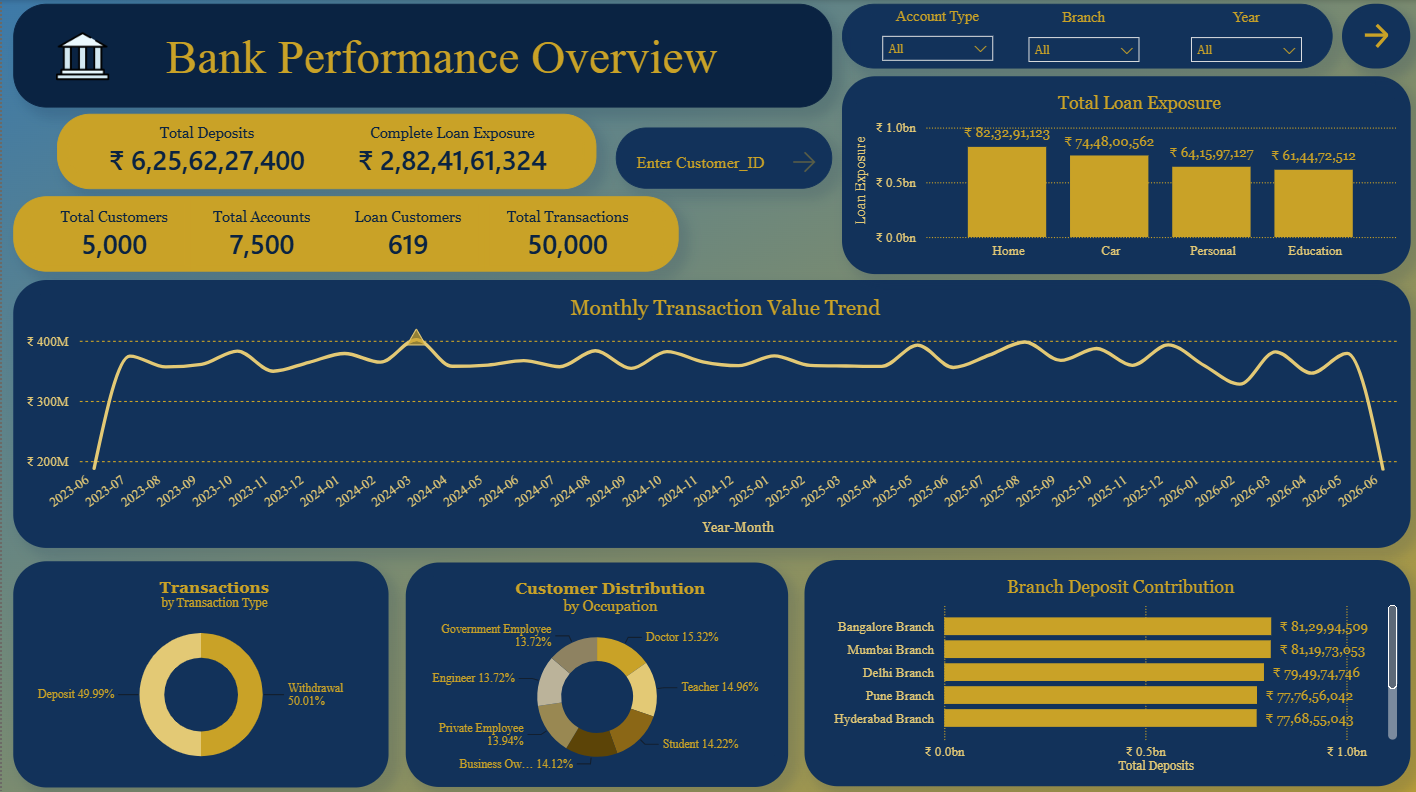

Layout of this report page (visuals, bound fields, positions):
{"tool":"powerbi","page":{"name":"Banking Performance","canvas":[1280,720],"ordinal":0},"visuals":[{"type":"shape","box":[553.8,115,195,55],"z":0},{"type":"shape","box":[757.5,3.8,442.5,58.8],"z":1000},{"type":"shape","box":[10,3.8,738.8,93.8],"z":2000},{"type":"shape","box":[50,102.2,486.2,68],"z":3000},{"type":"shape","box":[10,177.2,600,68],"z":4000},{"type":"slicer","title":"Year","fields":{"Values":["Dim_Date.Year"]},"box":[1061.2,7.5,120,50],"z":5000},{"type":"slicer","title":"Branch","fields":{"Values":["Dim_Branch.Branch_Name"]},"box":[915,7.5,120,50],"z":6000},{"type":"slicer","title":"Account Type","fields":{"Values":["Fact_Account.Account_Type"]},"box":[783.8,7,120,50],"z":7000},{"type":"cardVisual","fields":{"Data":["Measure.Total Customers"]},"box":[32.5,179.3,137.5,65],"z":8000},{"type":"cardVisual","fields":{"Data":["Measure.Total Accounts"]},"box":[170,179.3,128,65],"z":9000},{"type":"cardVisual","fields":{"Data":["Measure.Total Deposits"]},"box":[73.8,103.5,223.8,65],"z":10000},{"type":"cardVisual","fields":{"Data":["Measure.Total Transactions"]},"box":[435,179.3,150,65],"z":11000},{"type":"cardVisual","fields":{"Data":["Measure.Total Loan Exposure"]},"box":[297.5,103.5,217.5,65],"z":12000},{"type":"cardVisual","fields":{"Data":["Measure.Loan Customers"]},"box":[297.5,179.3,137.5,65],"z":13000},{"type":"donutChart","title":"Customer Distribution","fields":{"Category":["Dim_Customer.Occupation"],"Y":["Measure.Total Customers"]},"box":[363.8,507.1,345,202.5],"z":14000},{"type":"lineChart","title":"Monthly Transaction Value Trend","fields":{"Y":["Measure.Total Transaction Value"],"Category":["Dim_Date.Year-Month"]},"box":[10,252.5,1260,241.2],"z":16000},{"type":"donutChart","title":"Transactions","fields":{"Category":["Fact_Transaction.Transaction_Type"],"Y":["Measure.Total Transactions"]},"box":[10,505.9,338.8,203.8],"z":17000},{"type":"clusteredColumnChart","title":"Total Loan Exposure ","fields":{"Category":["Fact_Loan.Loan_Type"],"Y":["Measure.Total Loan Exposure"]},"box":[757.5,68.8,512.5,178.8],"z":18000},{"type":"clusteredBarChart","title":"Branch Deposit Contribution","fields":{"Category":["Dim_Branch.Branch_Name"],"Y":["Measure.Total Deposits"]},"box":[723.8,505,546.2,203.8],"z":19000},{"type":"textSlicer","fields":{"Values":["Dim_Customer.Customer_ID"]},"box":[553.8,113.8,195,55],"z":20000},{"type":"textbox","box":[133.8,21.2,525,62.5],"z":21000},{"type":"actionButton","box":[1208.8,3.8,61.2,58.8],"z":22000},{"type":"image","box":[32.5,27.5,80,47.5],"z":23000}]}

Visuals, with their boxes in screenshot pixels (x1, y1, x2, y2), scaled from the page's 1280x720 canvas onto the 1416x792 screenshot:
shape: [x1=613, y1=127, x2=828, y2=187]
shape: [x1=838, y1=4, x2=1328, y2=69]
shape: [x1=11, y1=4, x2=828, y2=107]
shape: [x1=55, y1=112, x2=593, y2=187]
shape: [x1=11, y1=195, x2=675, y2=270]
"Year" slicer: [x1=1174, y1=8, x2=1307, y2=63]
"Branch" slicer: [x1=1012, y1=8, x2=1145, y2=63]
"Account Type" slicer: [x1=867, y1=8, x2=1000, y2=63]
cardVisual - Measure.Total Customers: [x1=36, y1=197, x2=188, y2=269]
cardVisual - Measure.Total Accounts: [x1=188, y1=197, x2=330, y2=269]
cardVisual - Measure.Total Deposits: [x1=82, y1=114, x2=329, y2=185]
cardVisual - Measure.Total Transactions: [x1=481, y1=197, x2=647, y2=269]
cardVisual - Measure.Total Loan Exposure: [x1=329, y1=114, x2=570, y2=185]
cardVisual - Measure.Loan Customers: [x1=329, y1=197, x2=481, y2=269]
"Customer Distribution" donutChart: [x1=402, y1=558, x2=784, y2=781]
"Monthly Transaction Value Trend" lineChart: [x1=11, y1=278, x2=1405, y2=543]
"Transactions" donutChart: [x1=11, y1=556, x2=386, y2=781]
"Total Loan Exposure " clusteredColumnChart: [x1=838, y1=76, x2=1405, y2=272]
"Branch Deposit Contribution" clusteredBarChart: [x1=801, y1=556, x2=1405, y2=780]
textSlicer - Dim_Customer.Customer_ID: [x1=613, y1=125, x2=828, y2=186]
textbox: [x1=148, y1=23, x2=729, y2=92]
actionButton: [x1=1337, y1=4, x2=1405, y2=69]
image: [x1=36, y1=30, x2=124, y2=82]
